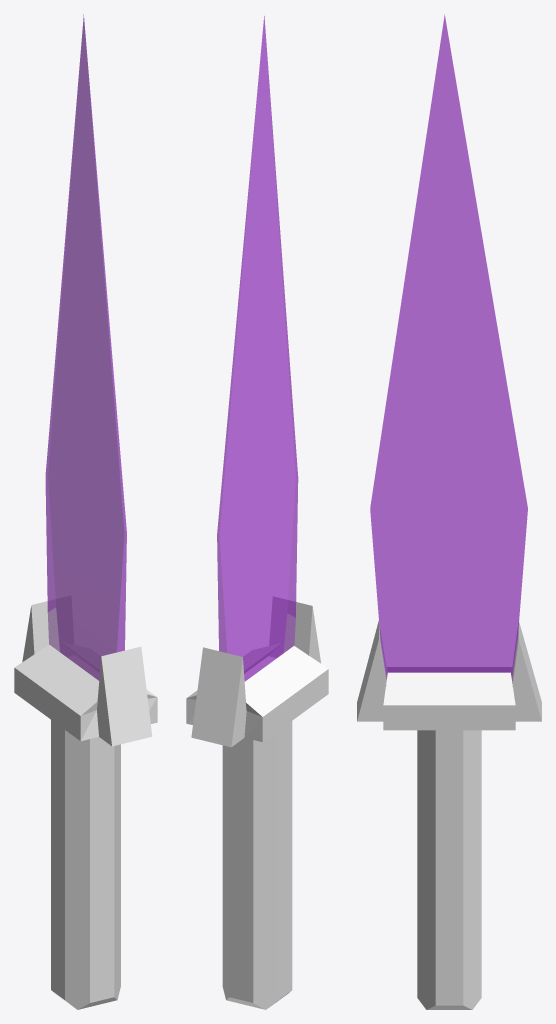
File: Plasma Sword.fbx
The picture shows the model from 3 angles, left to right: view 1: azimuth 30°, elevation 25°; view 2: azimuth 150°, elevation 25°; view 3: azimuth 270°, elevation 25°; orthographic projection.
Visible parts, largest first — view 1: Blade, Hilt; view 2: Blade, Hilt; view 3: Blade, Hilt.
Part boxes in pixels (<box>): Blade: <box>45,14,126,680</box>; Hilt: <box>14,596,157,1009</box>; Blade: <box>217,16,298,681</box>; Hilt: <box>186,596,328,1009</box>; Blade: <box>370,14,527,680</box>; Hilt: <box>357,620,541,1009</box>.
Bounding box in the file's own units: 55.66 × 682 × 116.
